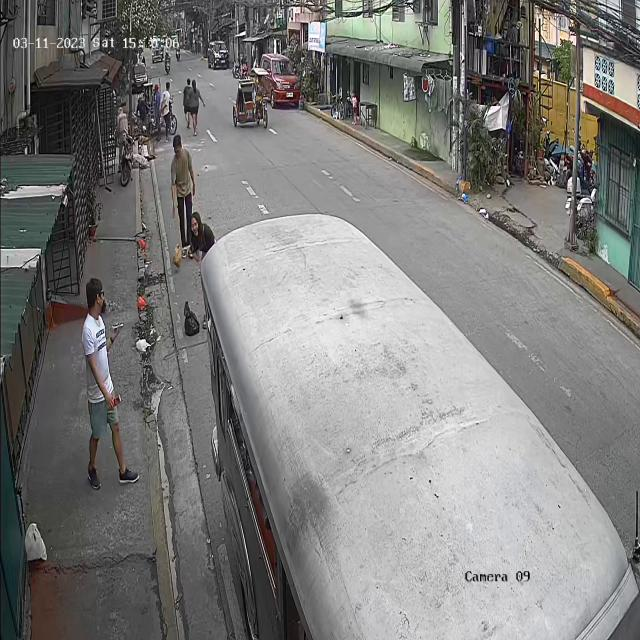garbage_dumping: (182, 297, 200, 341), (171, 242, 186, 272), (105, 388, 124, 408)
